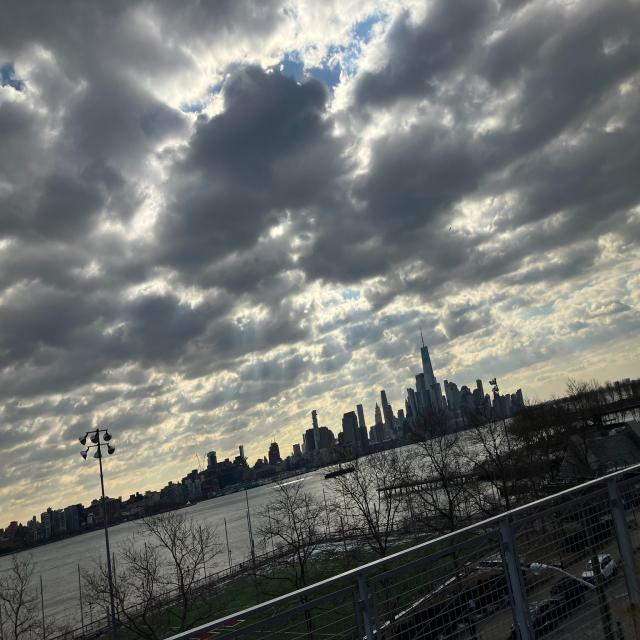WTC: (418, 325, 436, 387)
